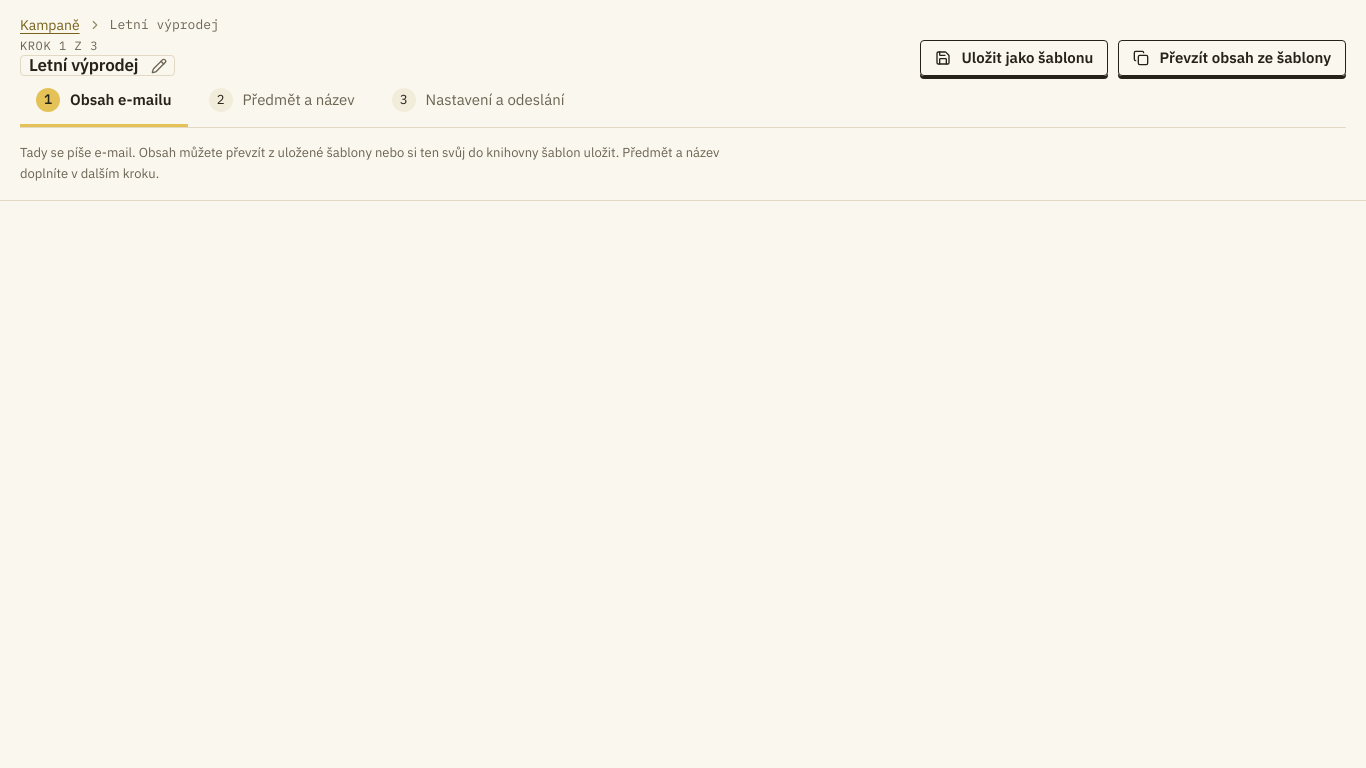
it: editor jako krok 1 kampaně › zamítnuté potvrzení nechá obsah kampaně na pokoji
The width and height of the screenshot is (1366, 768).
Click the button with test id "use-library-open" at point(1232, 58), box x1=1118 y1=40 x2=1346 y2=76
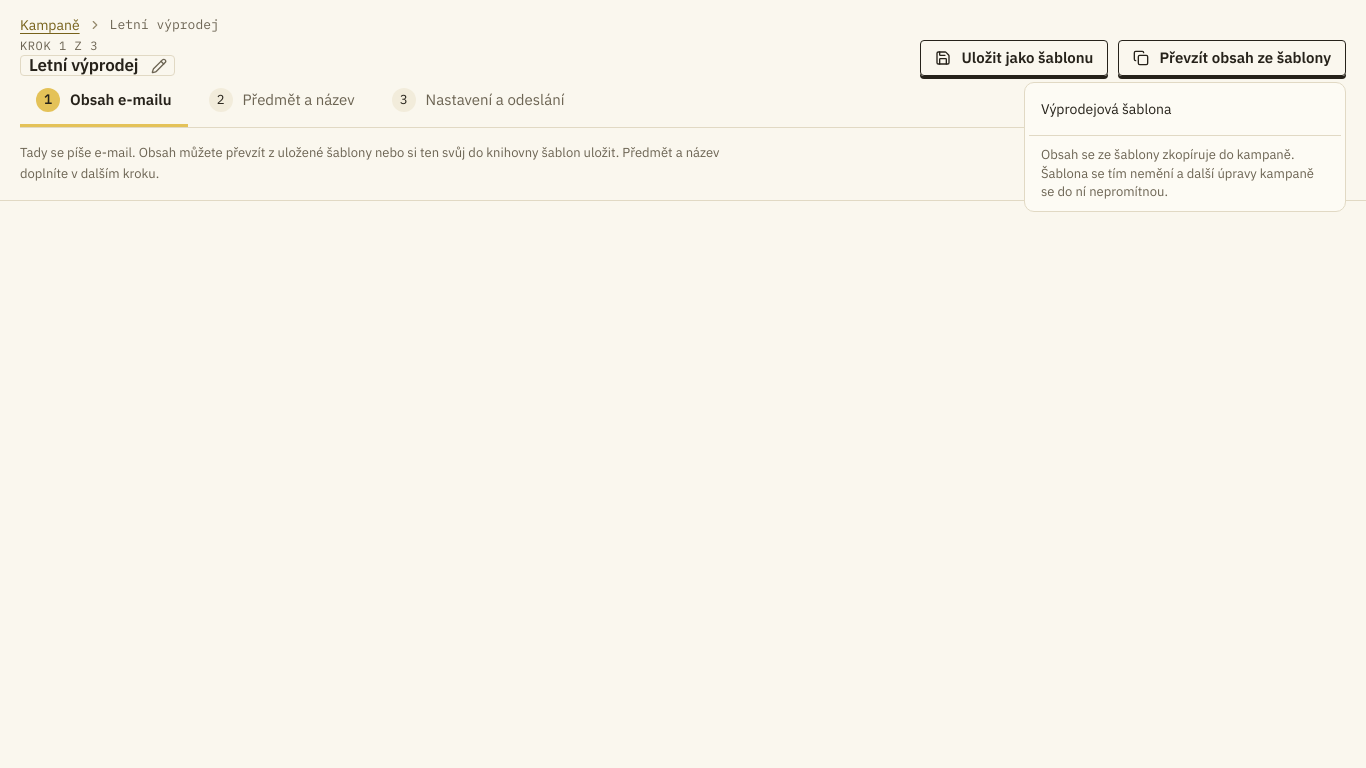
Click the menu item "Výprodejová šablona" at point(1106, 109), box x1=1041 y1=100 x2=1172 y2=118
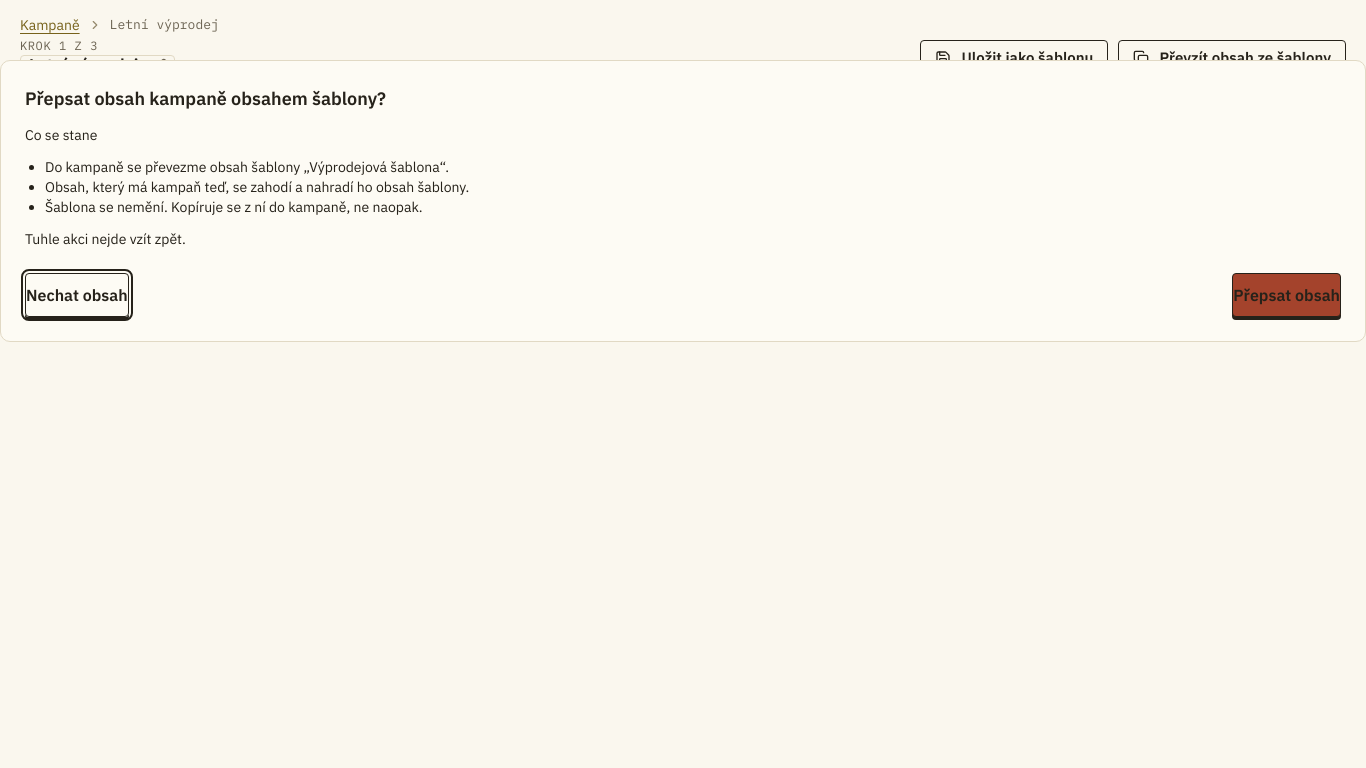
Click the button "Nechat obsah" at point(77, 295), box x1=25 y1=273 x2=129 y2=317
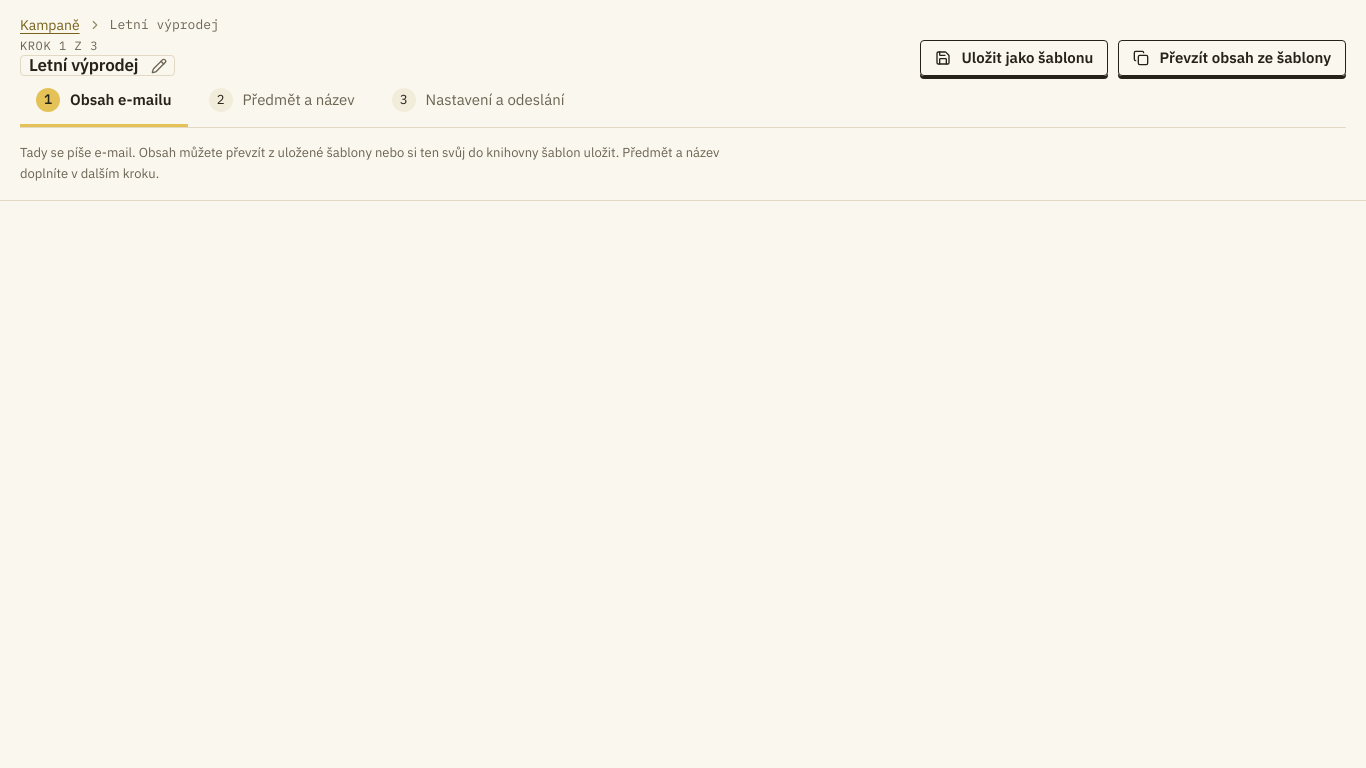
Result: the heading "Přepsat obsah kampaně obsahem šablony?" is gone
